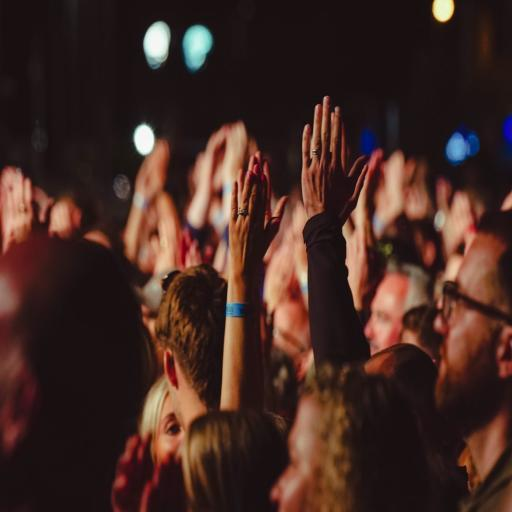face: (435, 301, 502, 433), (271, 396, 319, 511), (365, 274, 408, 354), (155, 394, 184, 465)
